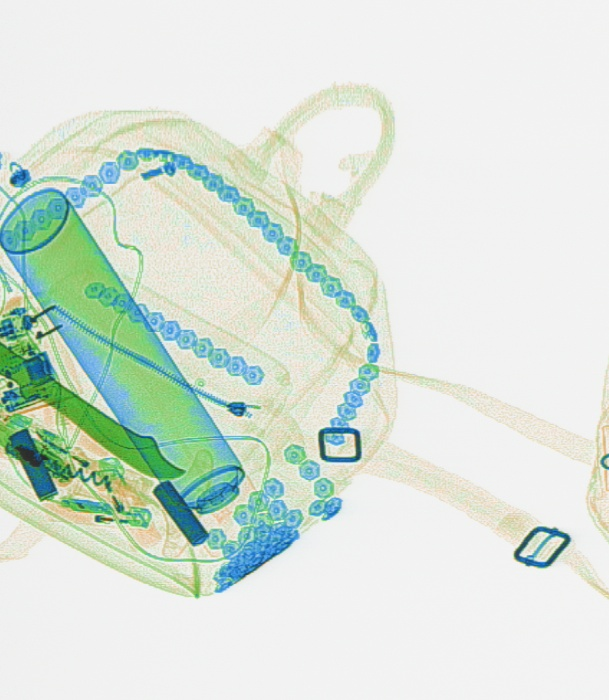knife: (2, 338, 183, 480)
lighter: (2, 411, 100, 482), (5, 412, 102, 483), (95, 456, 159, 549), (41, 500, 150, 529)
pressure: (4, 188, 276, 560)
